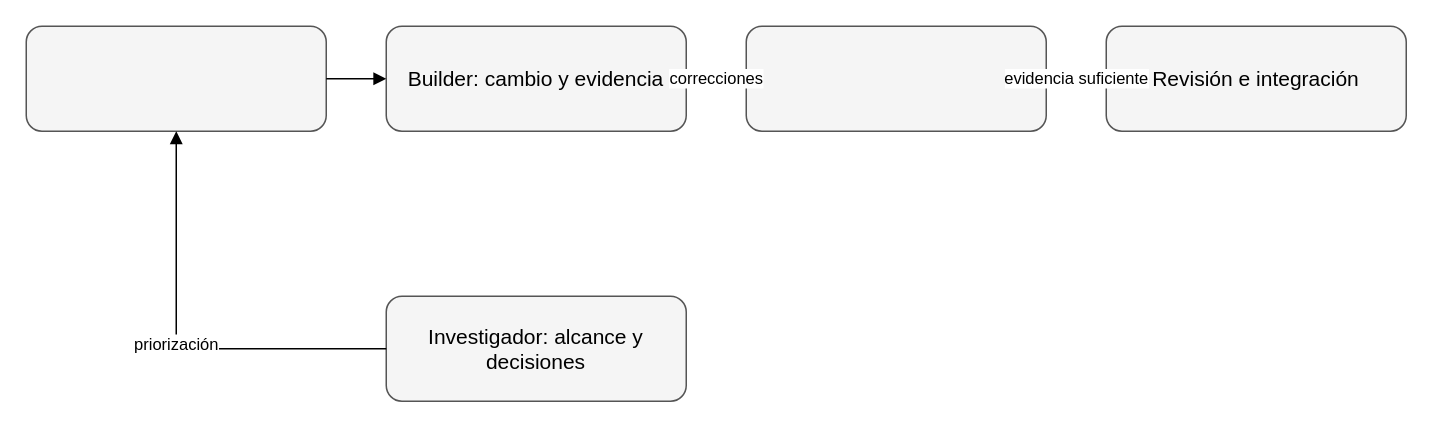
Image size: 1433x428. Some labels were removed from this diagram. The shapes that lost their labels are listed below. From the top down, each one's centre as x and y in pixels, then its label:
the point at 175,78: Issue y criterios
the point at 895,78: QA: verificación independiente
